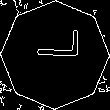L_W: (30, 39, 80, 71)
